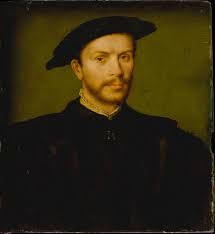no-mask: (72, 27, 151, 107)
